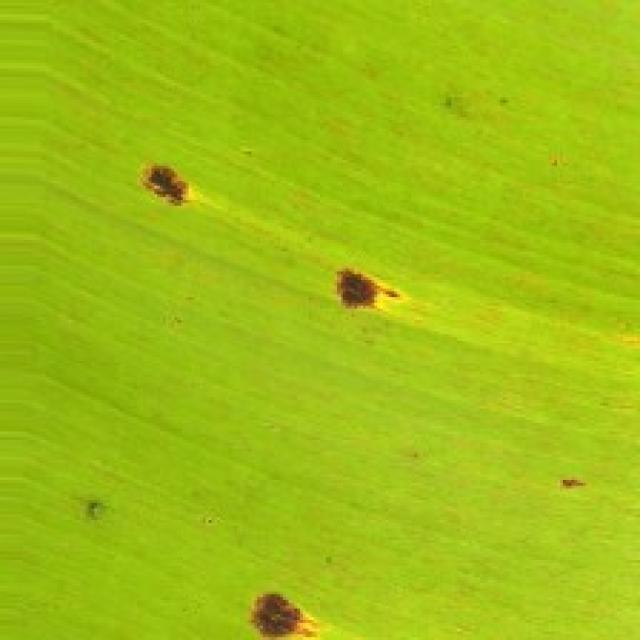Bacterial_spot: (232, 563, 342, 640), (129, 147, 216, 226), (322, 250, 404, 327), (550, 450, 600, 519), (66, 488, 125, 538)
